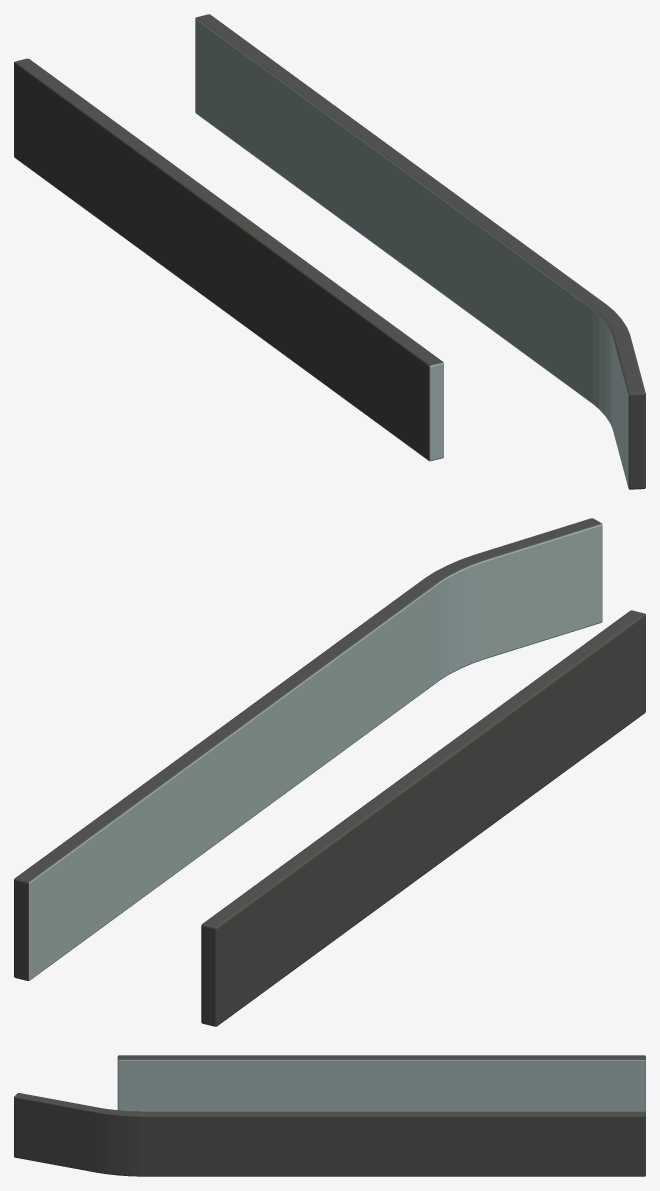
The model's file is specimenroom_top_tunnel.fbx.
The picture shows the model from 3 angles, top to bottom: view 1: azimuth 30°, elevation 25°; view 2: azimuth 150°, elevation 25°; view 3: azimuth 270°, elevation 25°; orthographic projection. The views are drawn at different scales.
Visible parts, largest first — view 1: LabTunnel; view 2: LabTunnel; view 3: LabTunnel.
Boxes of the visible parts, x1=… form: LabTunnel: x1=14, y1=14, x2=645, y2=489; LabTunnel: x1=14, y1=518, x2=645, y2=1026; LabTunnel: x1=14, y1=1055, x2=645, y2=1176.
Size of the model in its own units: 640 by 300 by 2807.
